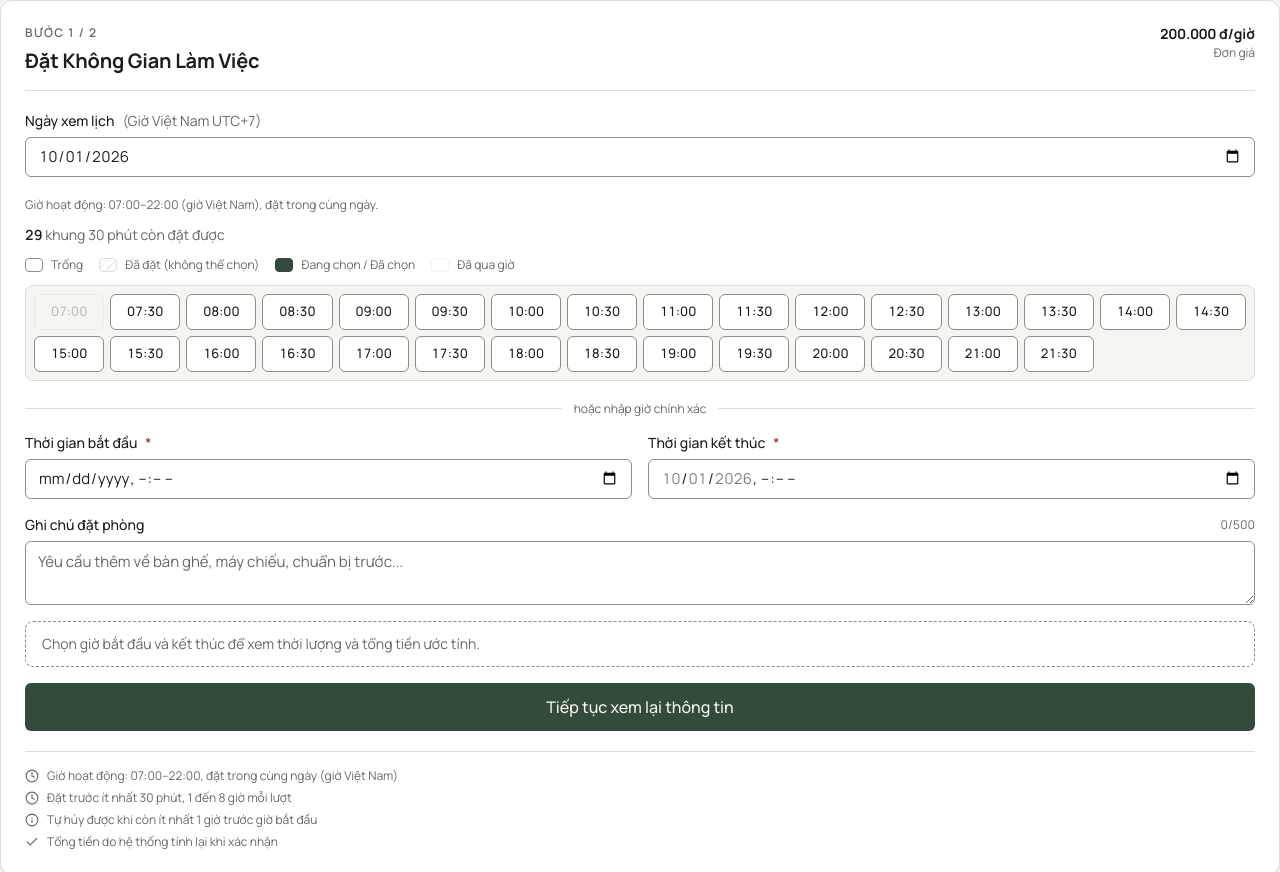
Scenario: BookingForm › CWB-21 TimeGrid & Two-Way Sync Integration › syncs TimeGrid range click into datetime-local inputs and shows preview
# Click 09:00 slot (start), then 10:30 slot (end)
What coordinates should you click on to do the following:
click the button with test id "time-slot-09:00"
I would click on:
 (374, 312)
Its box is [338, 294, 409, 330].
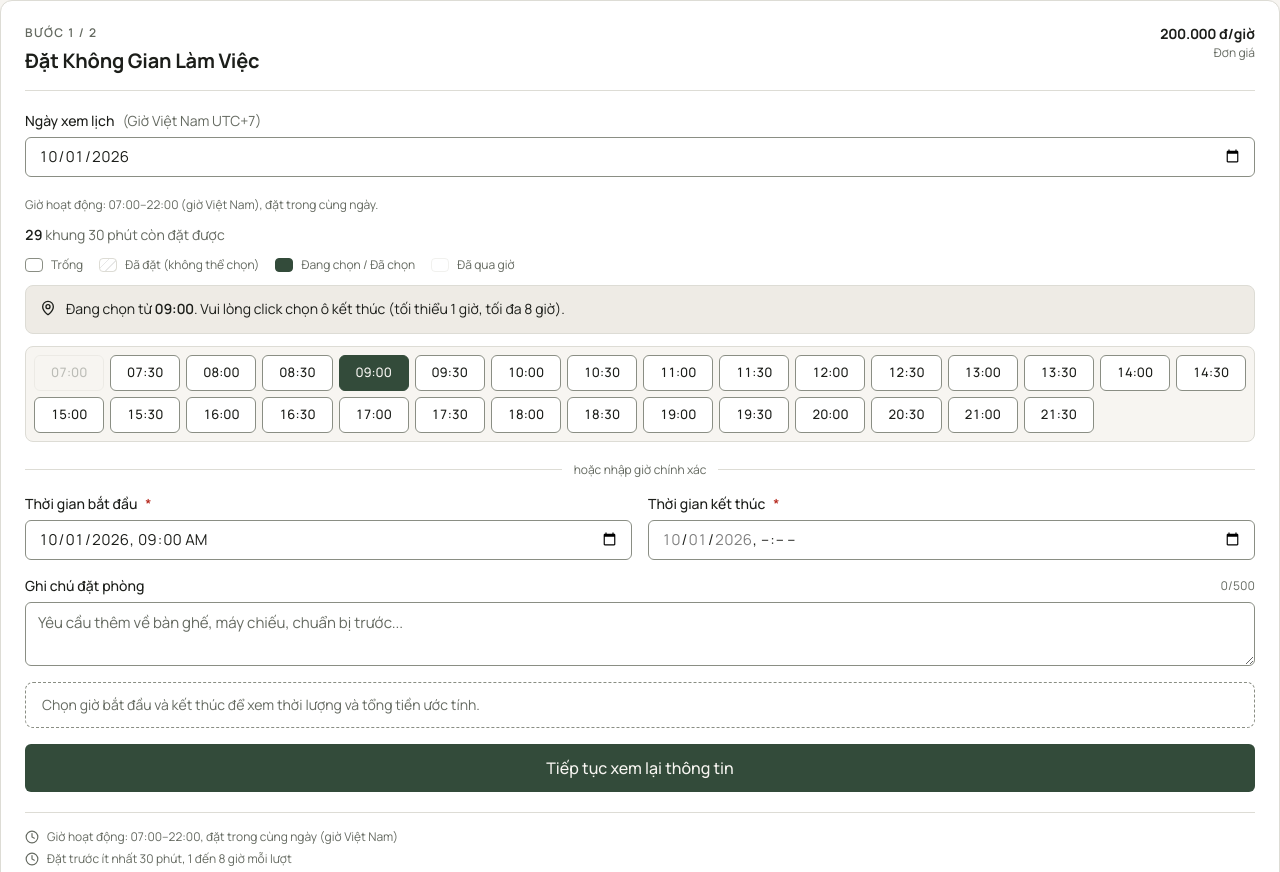
What coordinates should you click on to do the following:
click the button with test id "time-slot-10:30"
I would click on:
 (602, 372)
Its box is [567, 354, 637, 390].
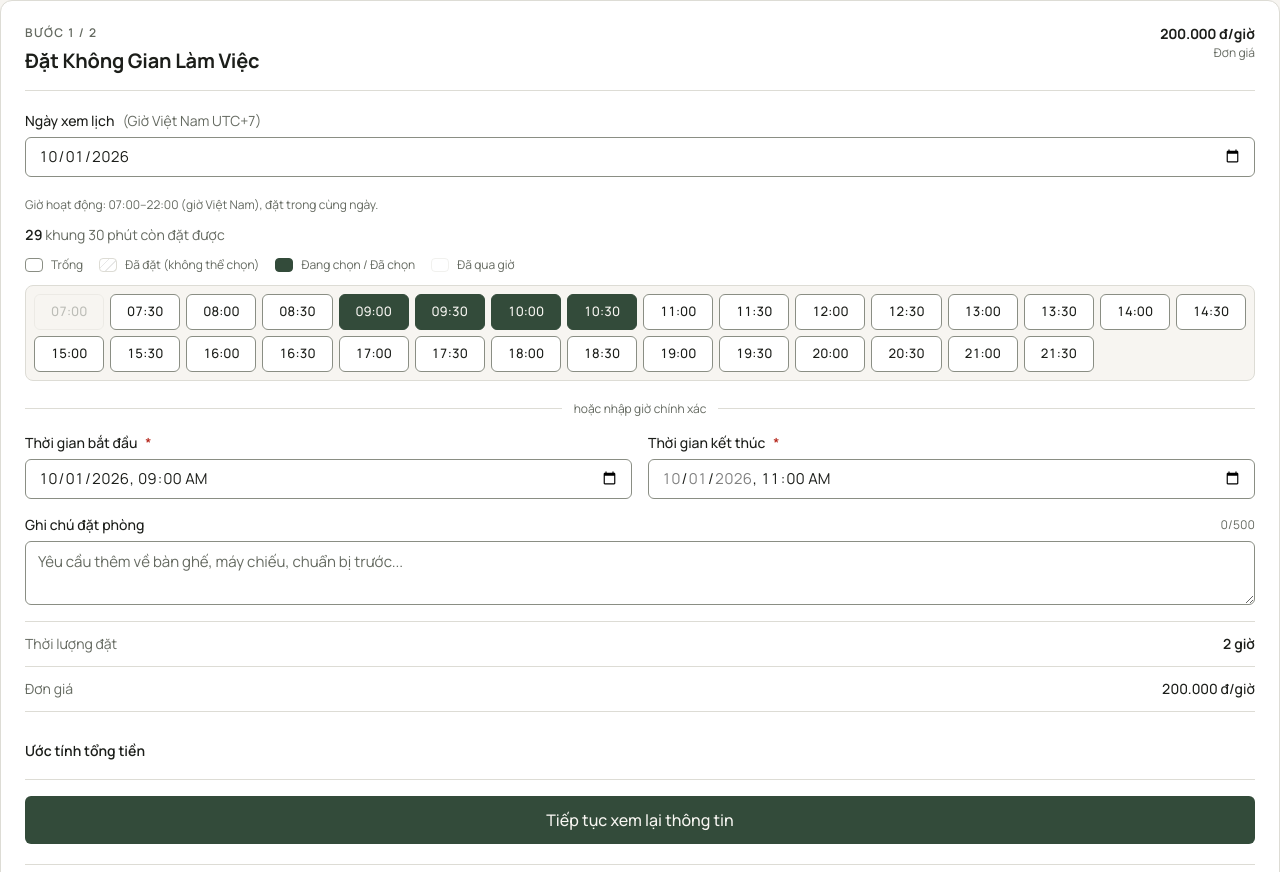
Expected: the field labelled "Thời gian bắt đầu *" holds "2026-10-01T09:00", [25, 459, 632, 499]
Expected: the field labelled "Thời gian kết thúc *" holds "2026-10-01T11:00", [648, 459, 1255, 499]
Expected: the element with test id "booking-price-preview" is shown, [25, 621, 1255, 780]
